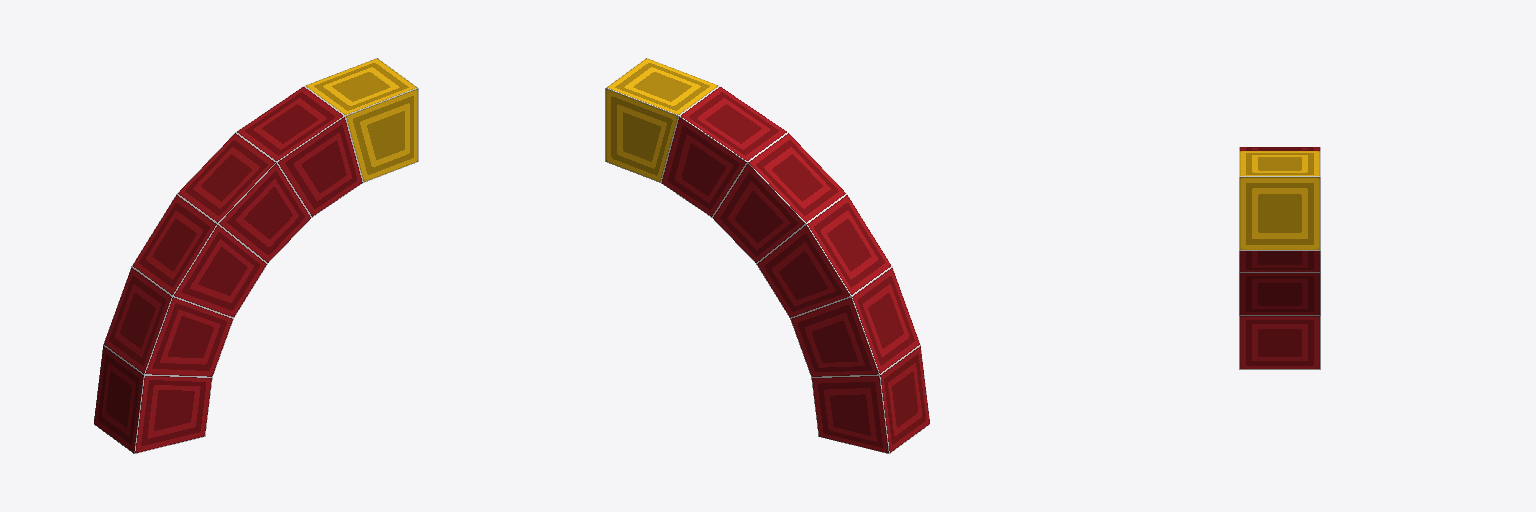
3 renders of one model, left to right at view 1: azimuth 30°, elevation 25°; view 2: azimuth 150°, elevation 25°; view 3: azimuth 270°, elevation 25°, orthographic.
Visible parts, largest first — view 1: LycorisRecoilSceneryArch; view 2: LycorisRecoilSceneryArch; view 3: LycorisRecoilSceneryArch.
Part boxes in pixels (bbox=[...]): LycorisRecoilSceneryArch: bbox=[94, 58, 418, 453]; LycorisRecoilSceneryArch: bbox=[605, 58, 929, 453]; LycorisRecoilSceneryArch: bbox=[1239, 147, 1320, 369].
Bounding box in the file's own units: 8 × 8 × 2.
2 materials, 2 textured.